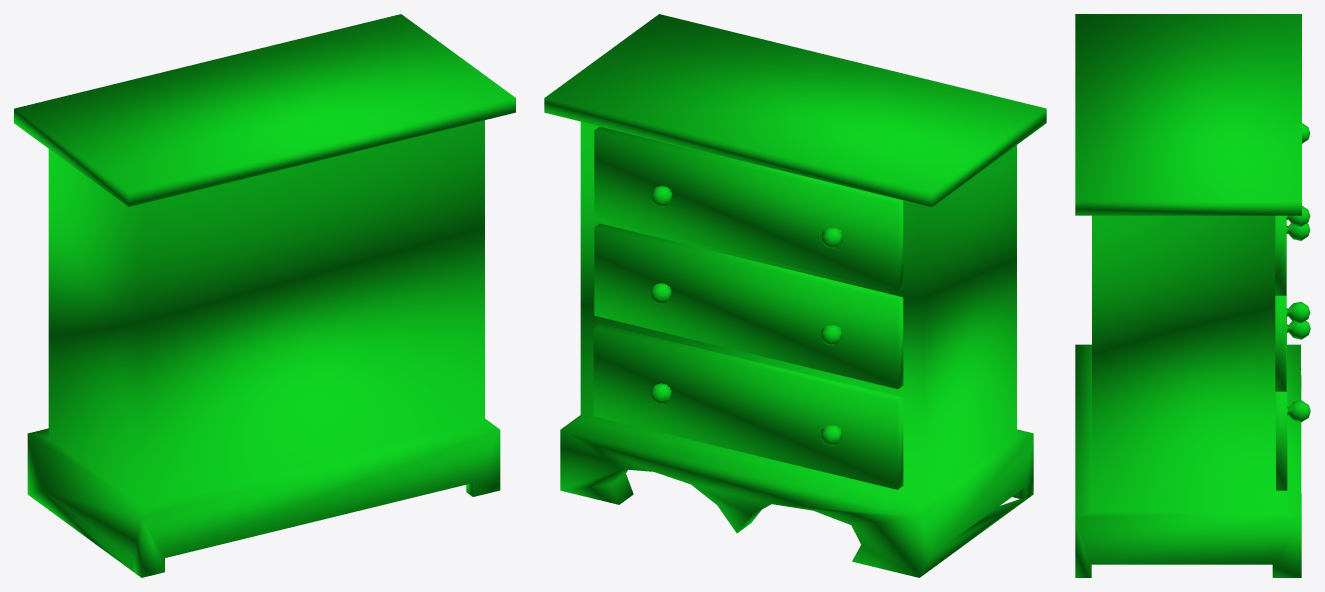
File: drawer.fbx
The picture shows the model from 3 angles, left to right: view 1: azimuth 30°, elevation 25°; view 2: azimuth 150°, elevation 25°; view 3: azimuth 270°, elevation 25°; orthographic projection.
Visible parts, largest first — view 1: Shelve.001; view 2: Shelve.001; view 3: Shelve.001.
Boxes of the visible parts, x1,y1,x2,y2 form: Shelve.001: (14,14,515,577); Shelve.001: (544,14,1046,577); Shelve.001: (1075,14,1310,577).
Bounding box in the file's own units: 155 × 149 × 82.72.
